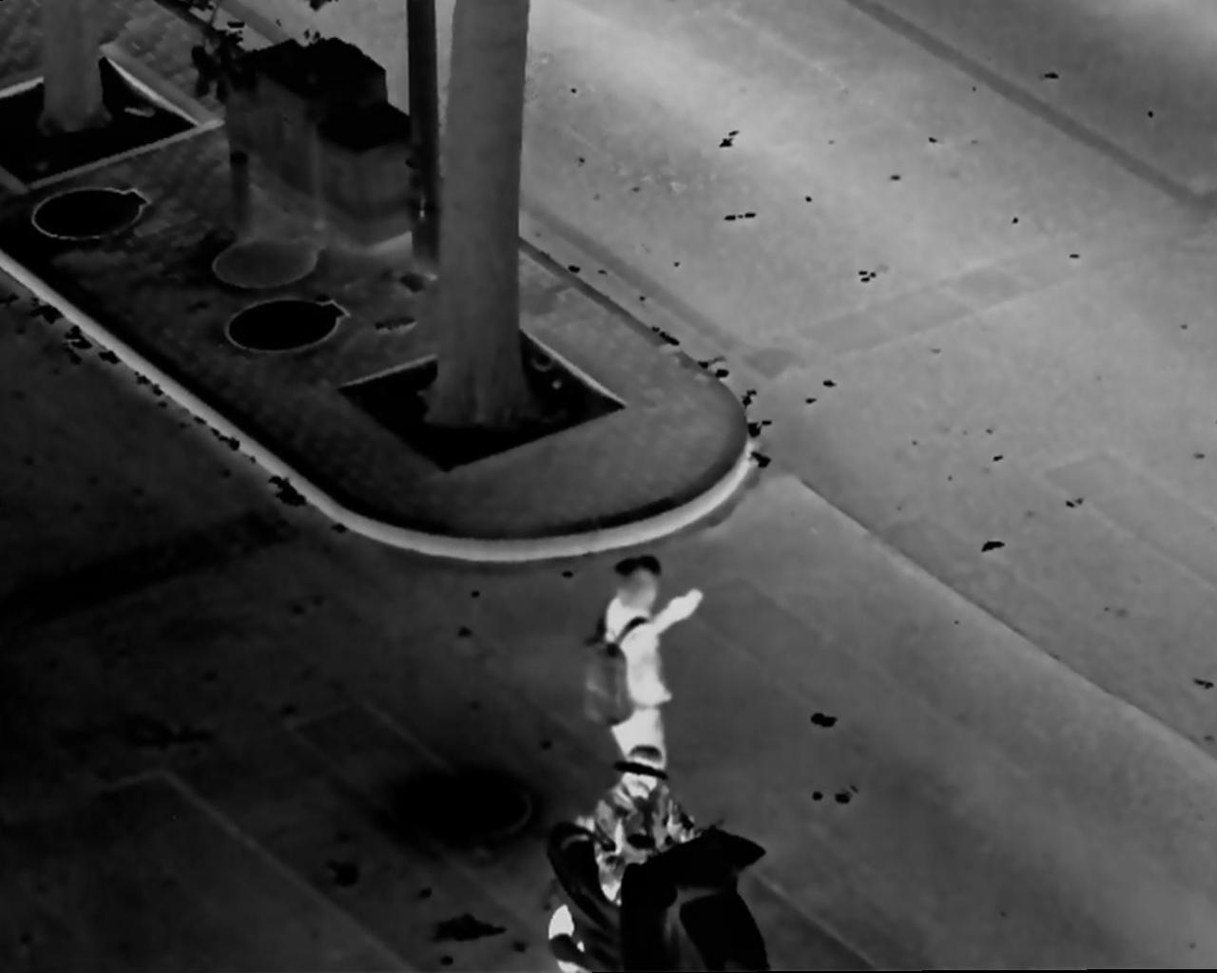person: (569, 549, 698, 806), (578, 745, 695, 973)
